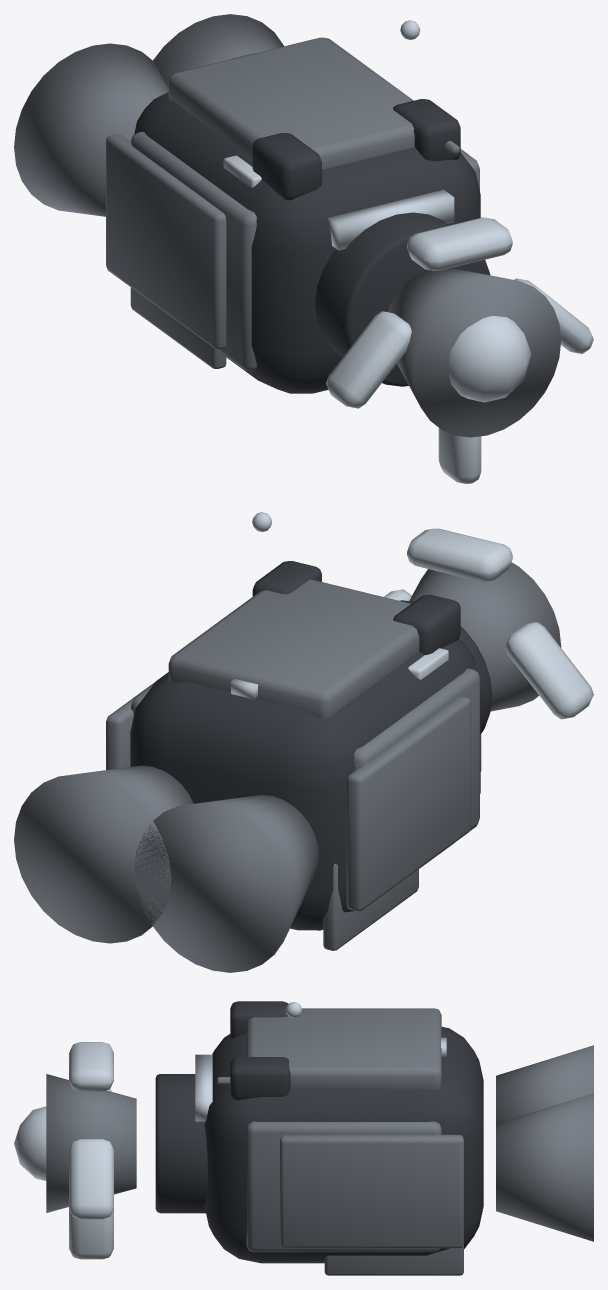
Rendered from weapon_drone_phoenix.glb.
3 renders of one model, top to bottom at view 1: azimuth 30°, elevation 25°; view 2: azimuth 150°, elevation 25°; view 3: azimuth 270°, elevation 25°, orthographic. The views are drawn at different scales.
Visible parts, largest first — view 1: weapon_drone_phoenix; view 2: weapon_drone_phoenix; view 3: weapon_drone_phoenix.
Part boxes in pixels (bbox=[...]): weapon_drone_phoenix: bbox=[14, 14, 593, 483]; weapon_drone_phoenix: bbox=[14, 512, 593, 972]; weapon_drone_phoenix: bbox=[14, 1001, 593, 1275].
Size of the model in its own units: 0.696 by 0.8358 by 1.54.
